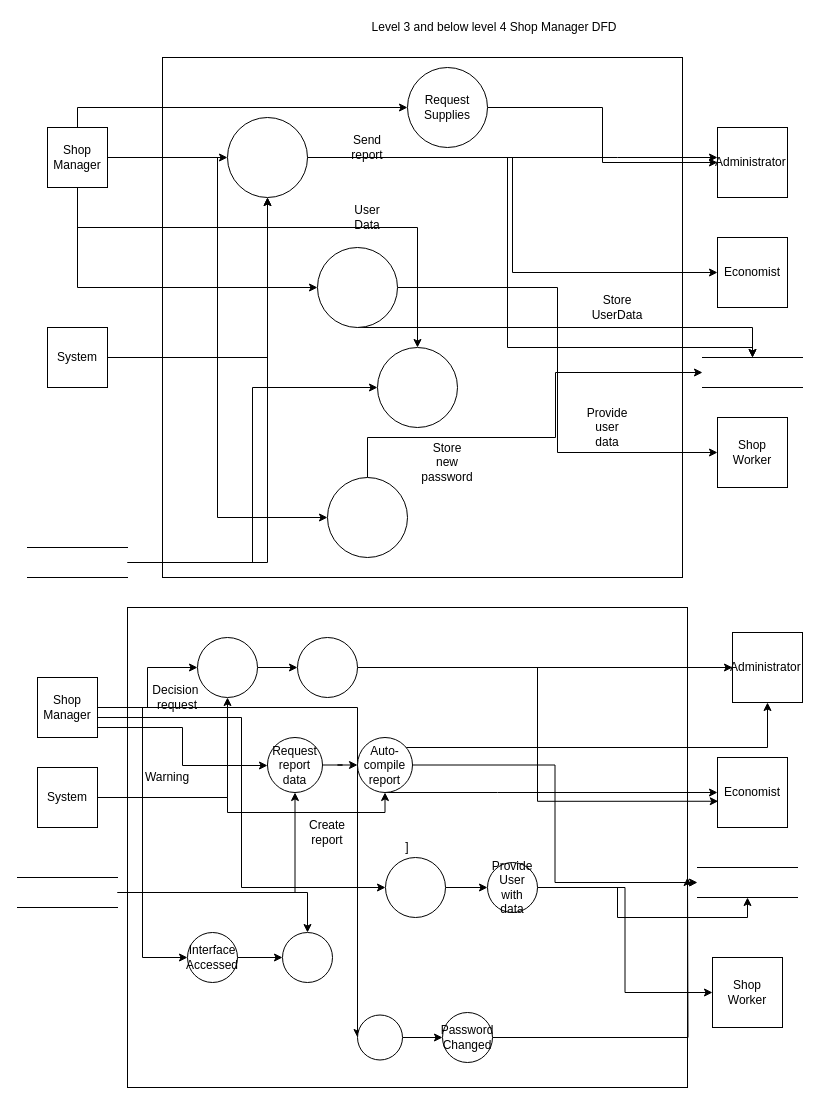
This 822x1105 diagram has some shape labels left out. Each missing label, with the box of its shape:
Add User into system: (316, 246, 398, 328)
Automatic report creation and sending: (226, 116, 308, 198)
Compile Request: (196, 636, 258, 698)
Insert New User Data: (384, 856, 446, 918)
Log In: (376, 346, 458, 428)
Logged In: (282, 932, 332, 982)
Password Change: (326, 476, 408, 558)
Send request: (296, 636, 358, 698)
User Confirmed: (356, 1014, 402, 1060)
